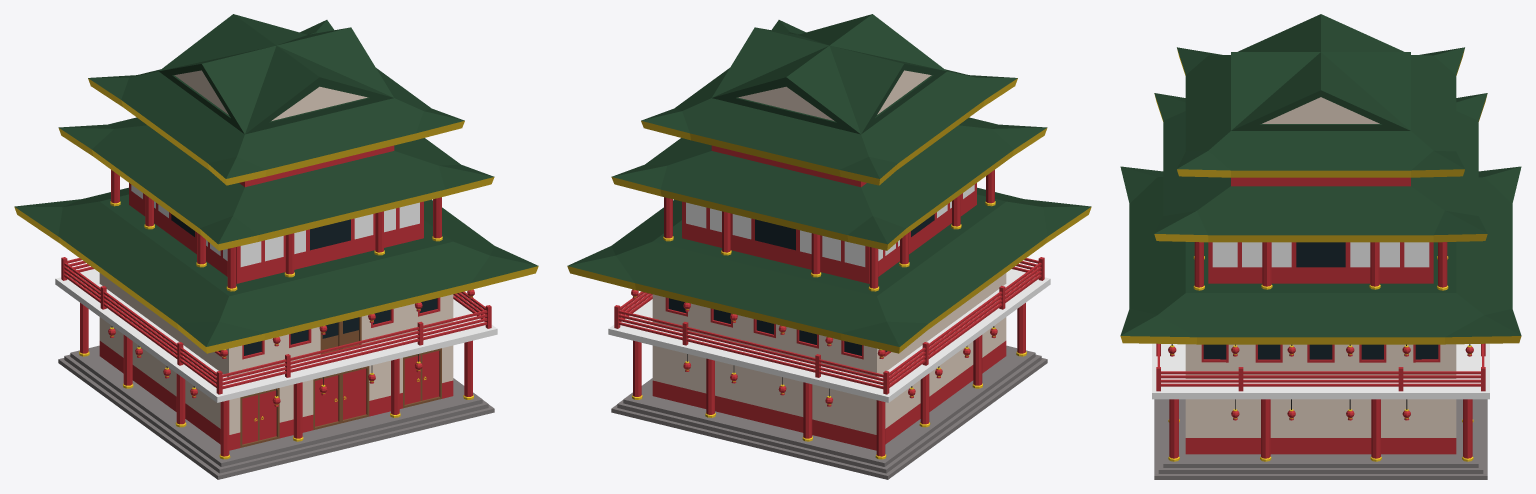
Rendered from jap_temple.glb.
3 views of the same model, side by side, from view 1: azimuth 30°, elevation 25°; view 2: azimuth 150°, elevation 25°; view 3: azimuth 270°, elevation 25° (orthographic). The views are drawn at different scales.
Parts seen in each view (by area): view 1: building-temple-china; view 2: building-temple-china; view 3: building-temple-china.
Boxes of the visible parts, x1,y1,x2,y2 form: building-temple-china: [14, 14, 538, 479]; building-temple-china: [567, 14, 1091, 479]; building-temple-china: [1120, 14, 1521, 479].
Size of the model in its own units: 17.8 by 17.5 by 17.8.
